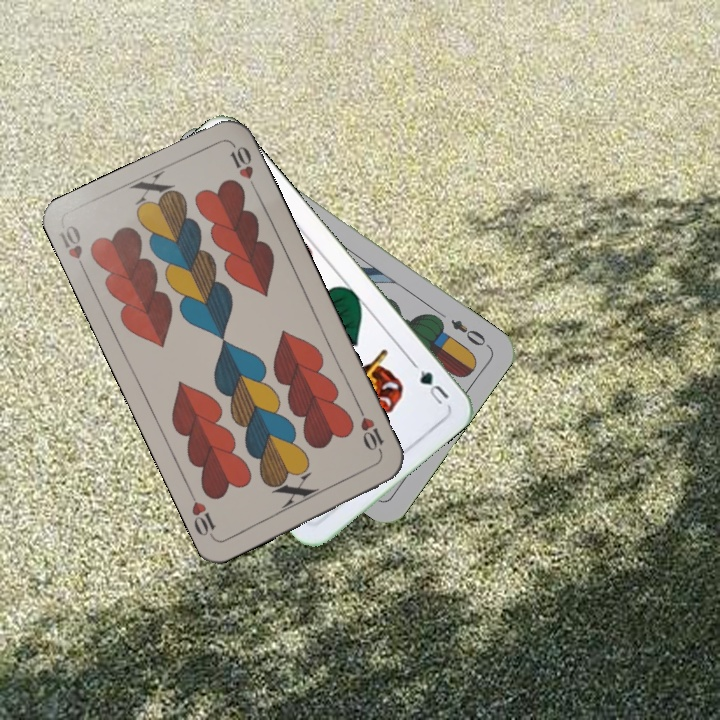EO: (446, 315, 488, 349)
GU: (409, 358, 452, 407)
H10: (55, 221, 90, 278), (354, 403, 387, 459)
